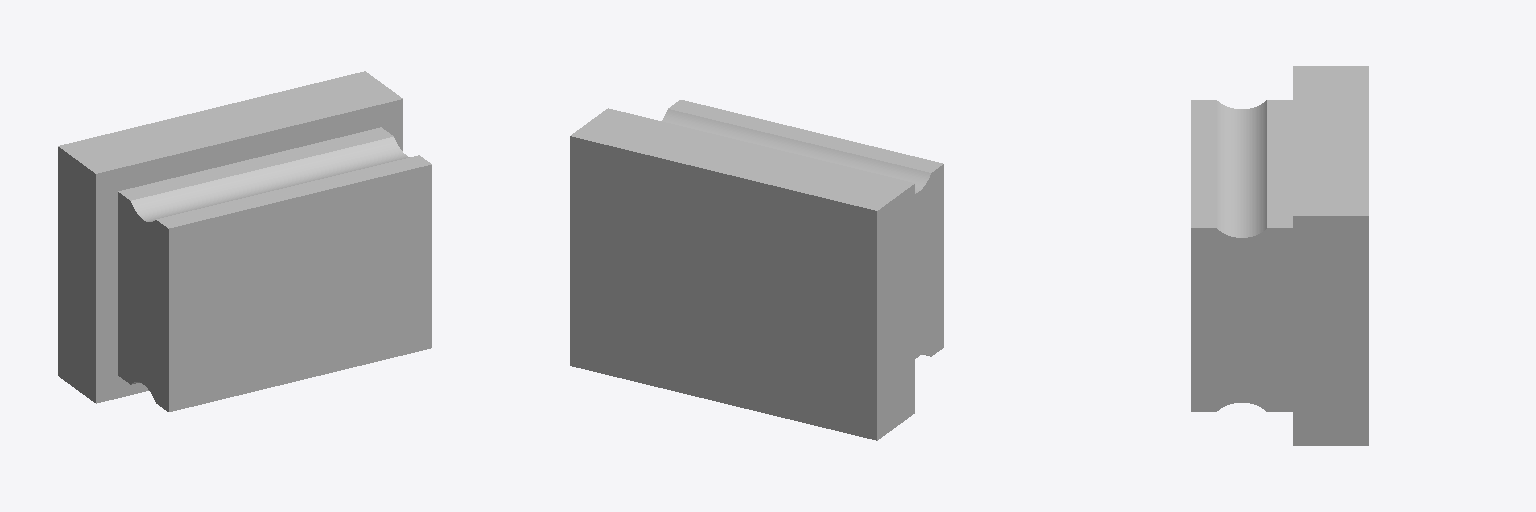
File: E2-ActFin01.obj
3 renders of one model, left to right at view 1: azimuth 30°, elevation 25°; view 2: azimuth 150°, elevation 25°; view 3: azimuth 270°, elevation 25°, orthographic.
Visible parts, largest first — view 1: mesh12, mesh5, mesh2, mesh11, mesh3, mesh8, mesh7, mesh9; view 2: mesh4, mesh2, mesh3, mesh11, mesh8, mesh9; view 3: mesh10, mesh1, mesh2, mesh8, mesh7, mesh9.
Part boxes in pixels (x1,y1,x2,y2): mesh12: (169,165,431,411); mesh5: (96,99,402,403); mesh2: (58,71,402,173); mesh11: (118,192,168,411); mesh3: (58,147,95,402); mesh8: (131,137,409,221); mesh7: (118,127,393,200); mesh9: (156,155,431,228); mesh4: (570,136,876,440); mesh2: (571,108,914,210); mesh3: (877,184,914,440); mesh11: (915,164,943,358); mesh8: (662,109,930,193); mesh9: (668,100,942,172); mesh10: (1191,228,1292,411); mesh1: (1293,216,1368,445); mesh2: (1293,66,1368,215); mesh8: (1217,100,1266,237); mesh7: (1267,100,1292,227); mesh9: (1191,100,1216,227).
Size of the model in its own units: 0.07 by 0.05 by 0.035.